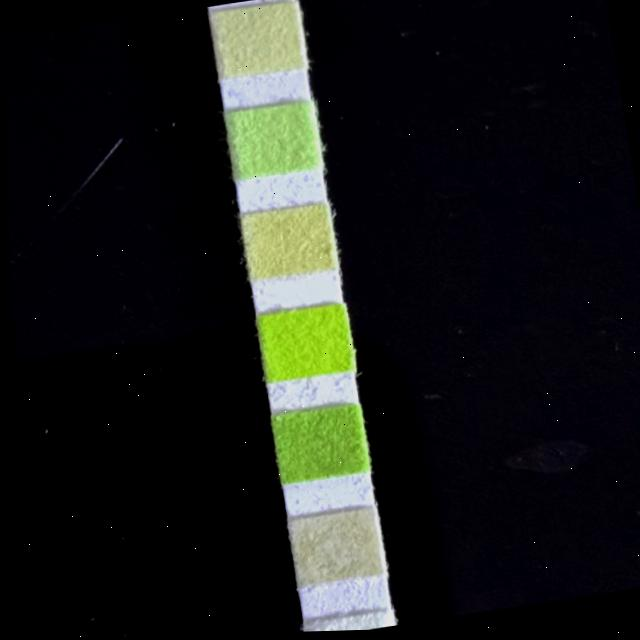Bilirubin: (299, 610, 387, 633)
Blood: (254, 305, 348, 382)
Ketone: (283, 508, 376, 584)
Protein: (225, 102, 317, 180)
SpGravity: (268, 405, 363, 482)
Urobilinogen: (209, 1, 305, 81)
pH: (237, 207, 330, 283)
